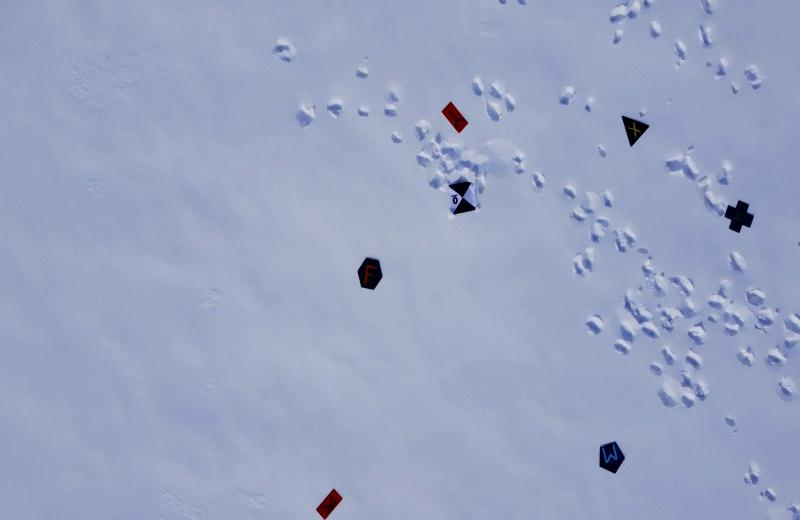Cross: (723, 197, 756, 235)
Hexagon: (354, 255, 386, 294)
Pentagon: (595, 439, 629, 478)
Rectangle: (313, 484, 344, 520), (440, 99, 469, 135)
Triangle: (620, 112, 652, 149)
